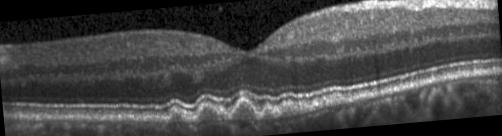retinal_drusen: (196, 104, 226, 122), (232, 100, 255, 120), (281, 104, 300, 116), (171, 111, 183, 122), (263, 107, 272, 119), (273, 109, 279, 115)
